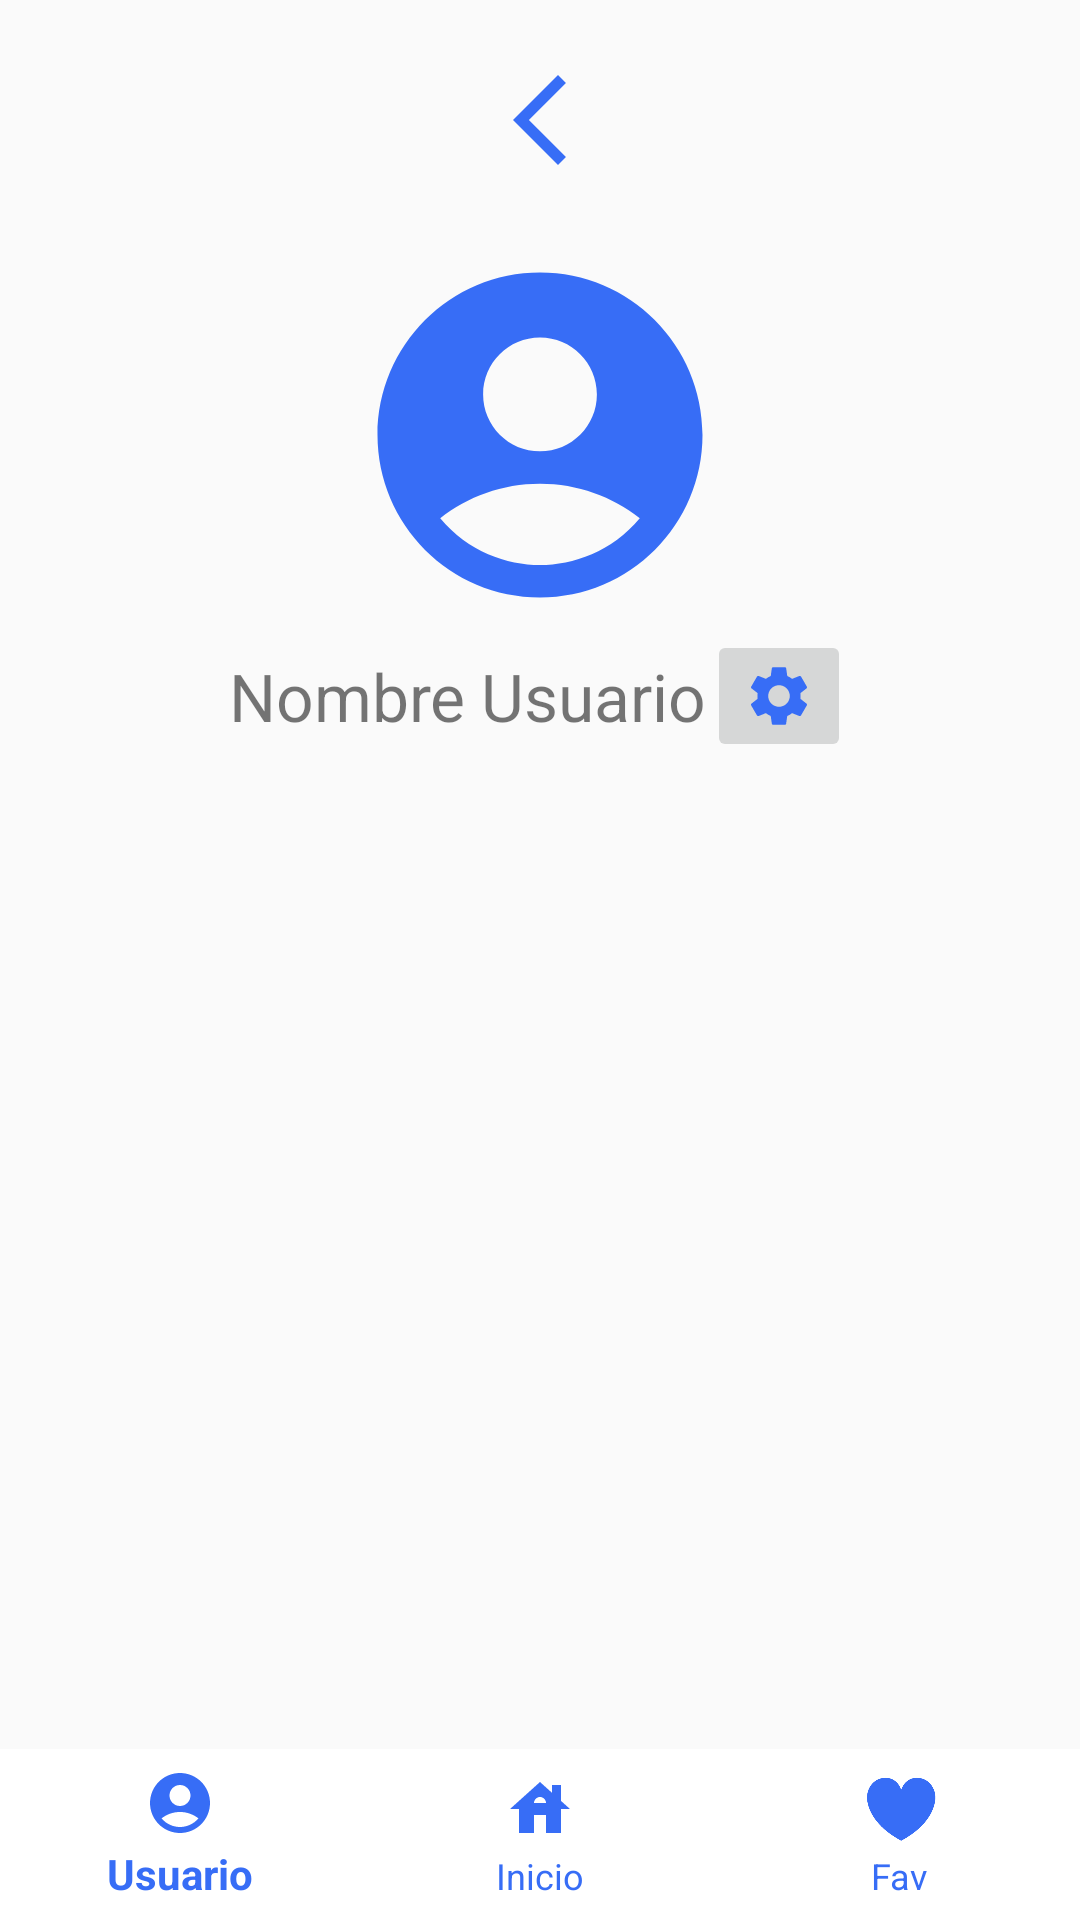

Where to tap for icons on this 1080px x 1920px app screen, as (x,y):
arrow back: (539,120)
settings: (779,696)
